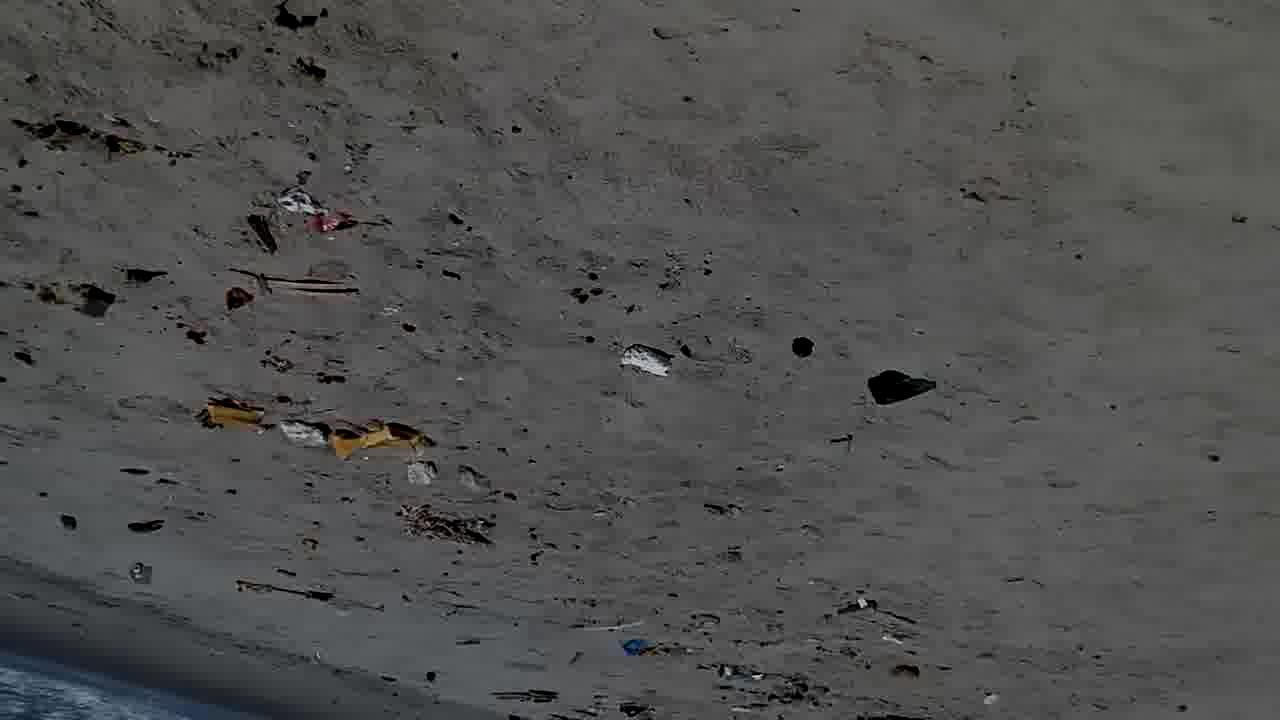large collection of objects: (261, 1, 331, 39), (402, 458, 443, 494), (456, 464, 492, 500)
obj: (3, 110, 192, 167), (392, 503, 499, 554), (825, 598, 926, 644), (236, 270, 366, 302), (334, 422, 424, 462), (200, 393, 272, 437), (230, 576, 338, 605), (864, 368, 935, 406), (605, 345, 675, 381), (613, 632, 684, 660), (274, 180, 329, 216), (282, 417, 332, 447), (122, 558, 159, 596), (788, 335, 822, 360)
sand/background: (1, 557, 513, 719)
